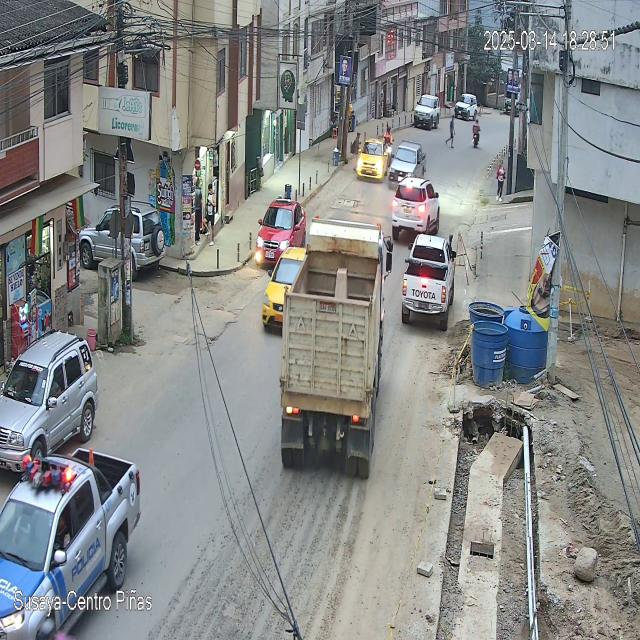CMT: (0, 450, 141, 640), (401, 233, 456, 333)
SUV: (0, 330, 99, 472)
TRUCK: (280, 222, 381, 480)
